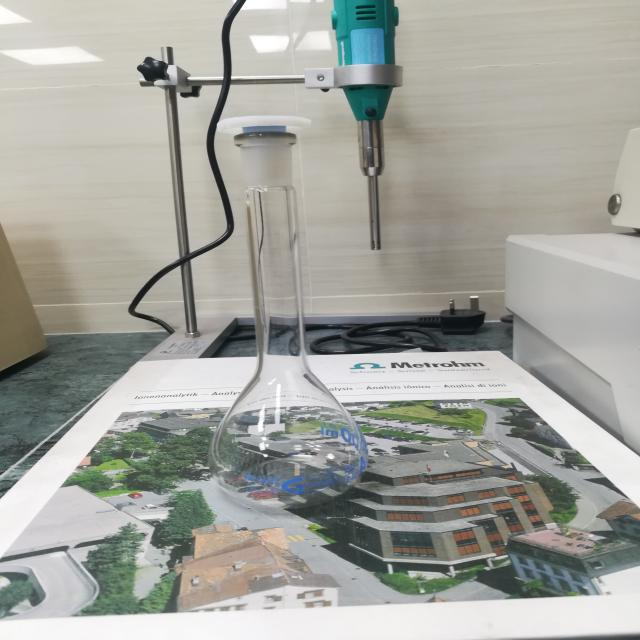Volumetric_Flask: (179, 89, 404, 528)
